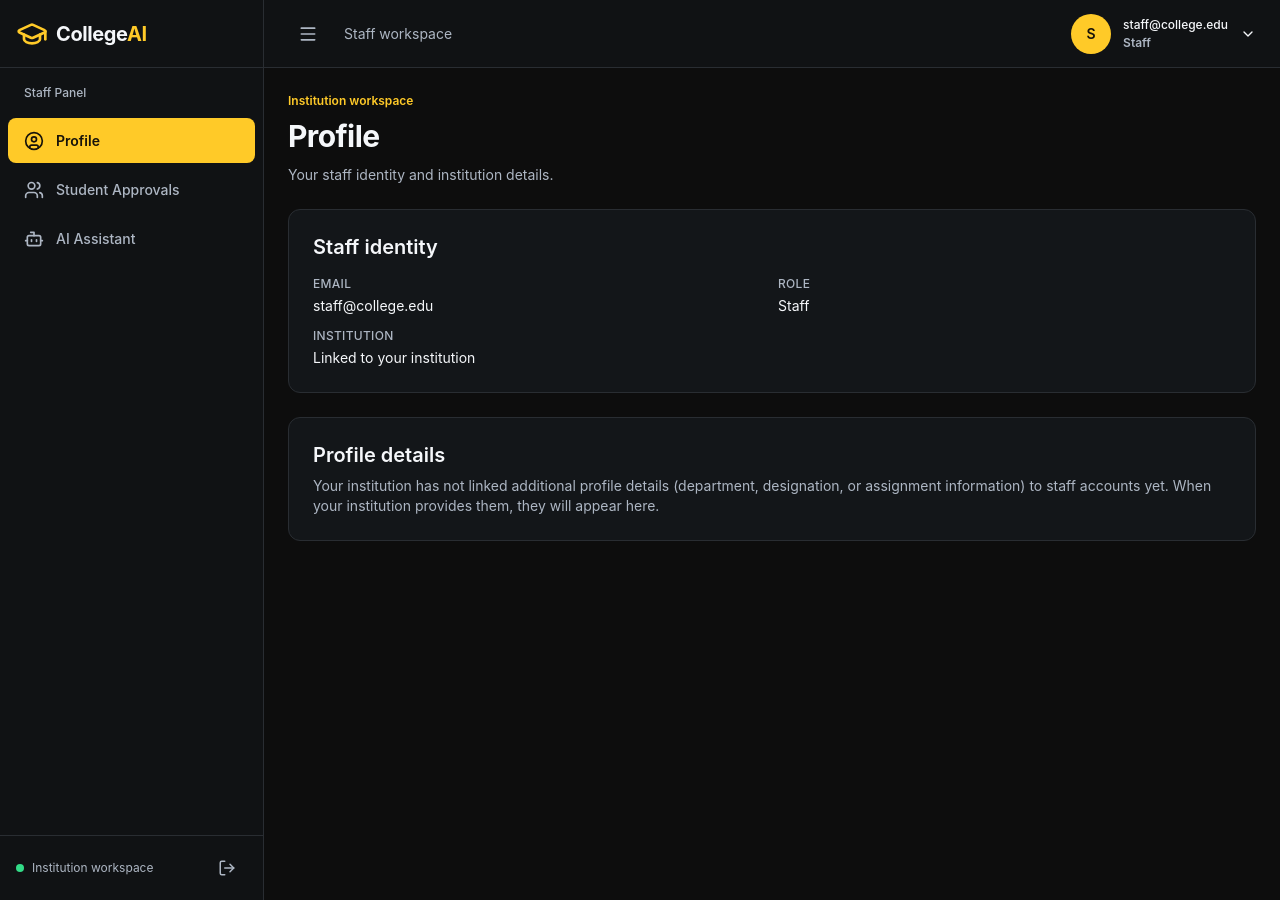
it: staff account workspace › opens account decisions without academic roster or registration controls
Click the button "Student Approvals".
click(132, 190)  # box [8,167,255,212]
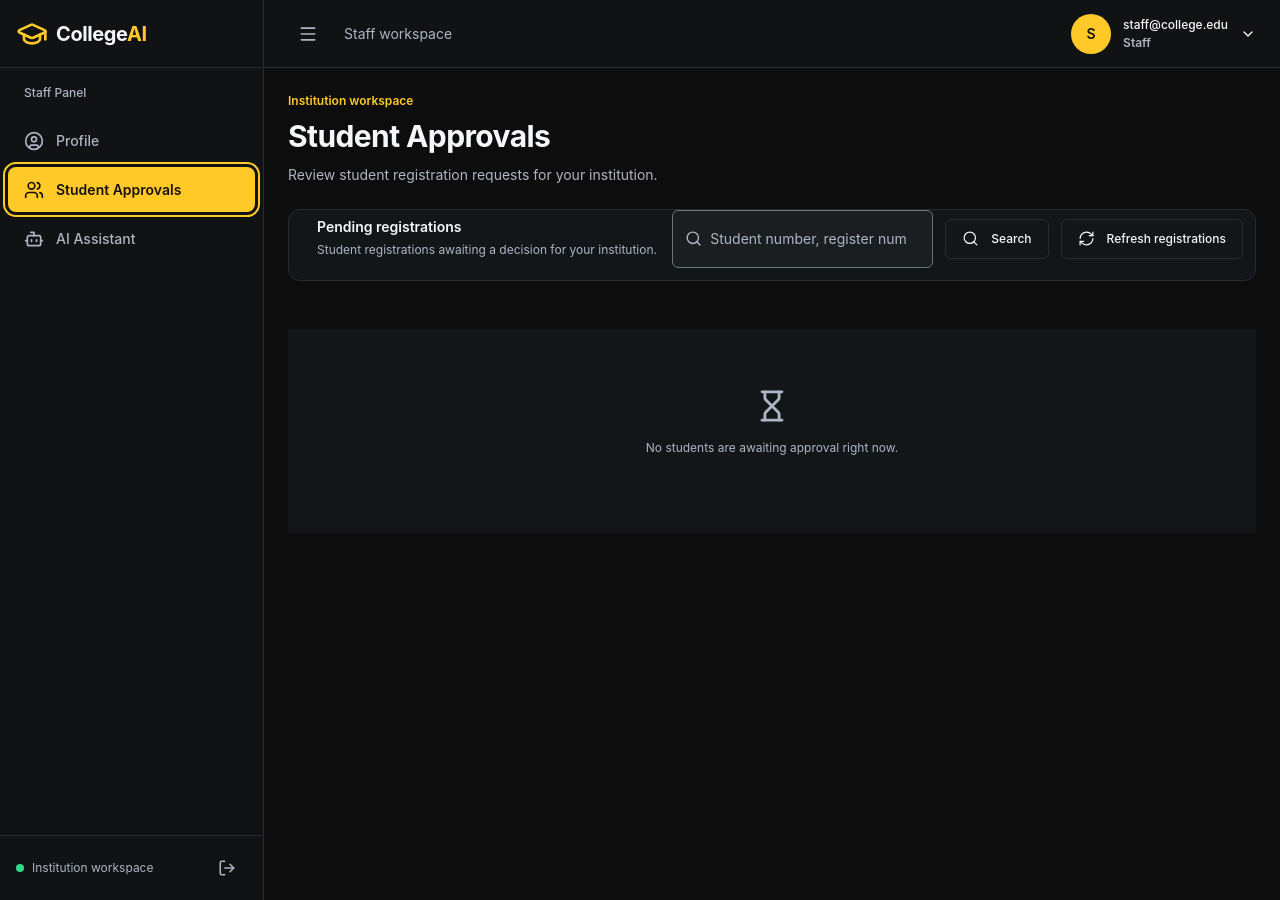
Result: the text "No students are awaiting approval right now." is shown at [646,440,898,454]
